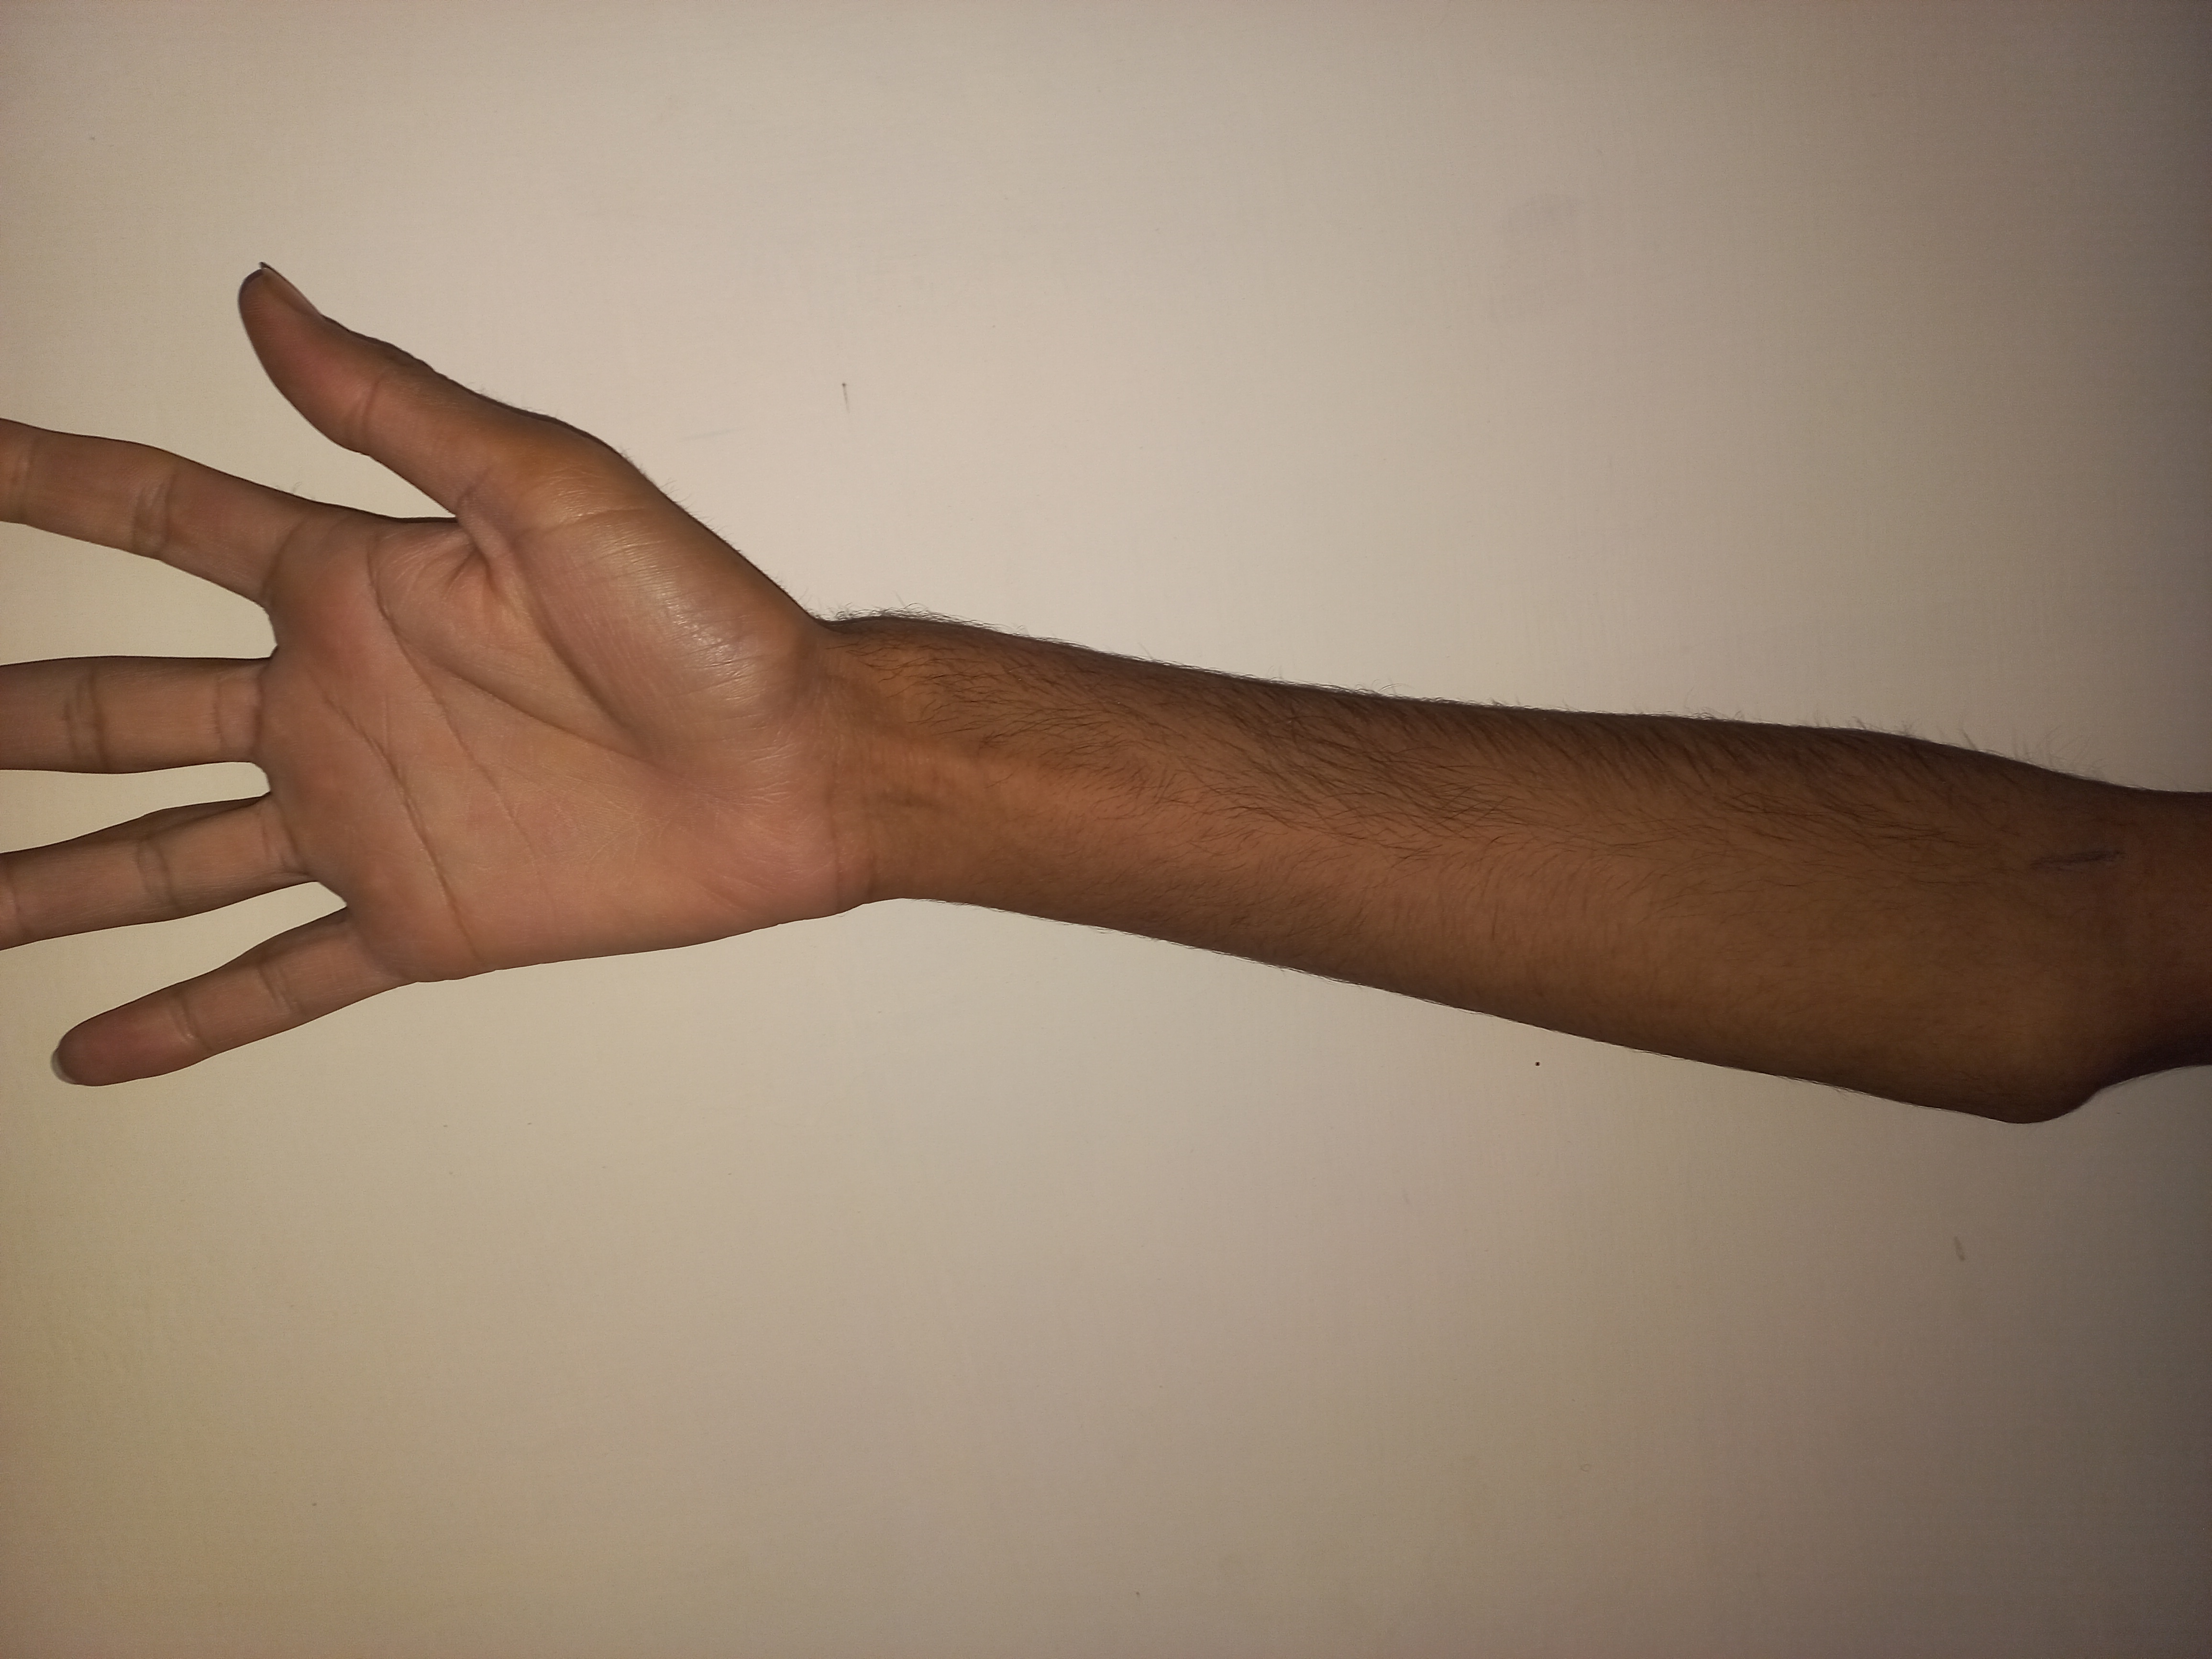vein: (1991, 836, 2149, 887)
